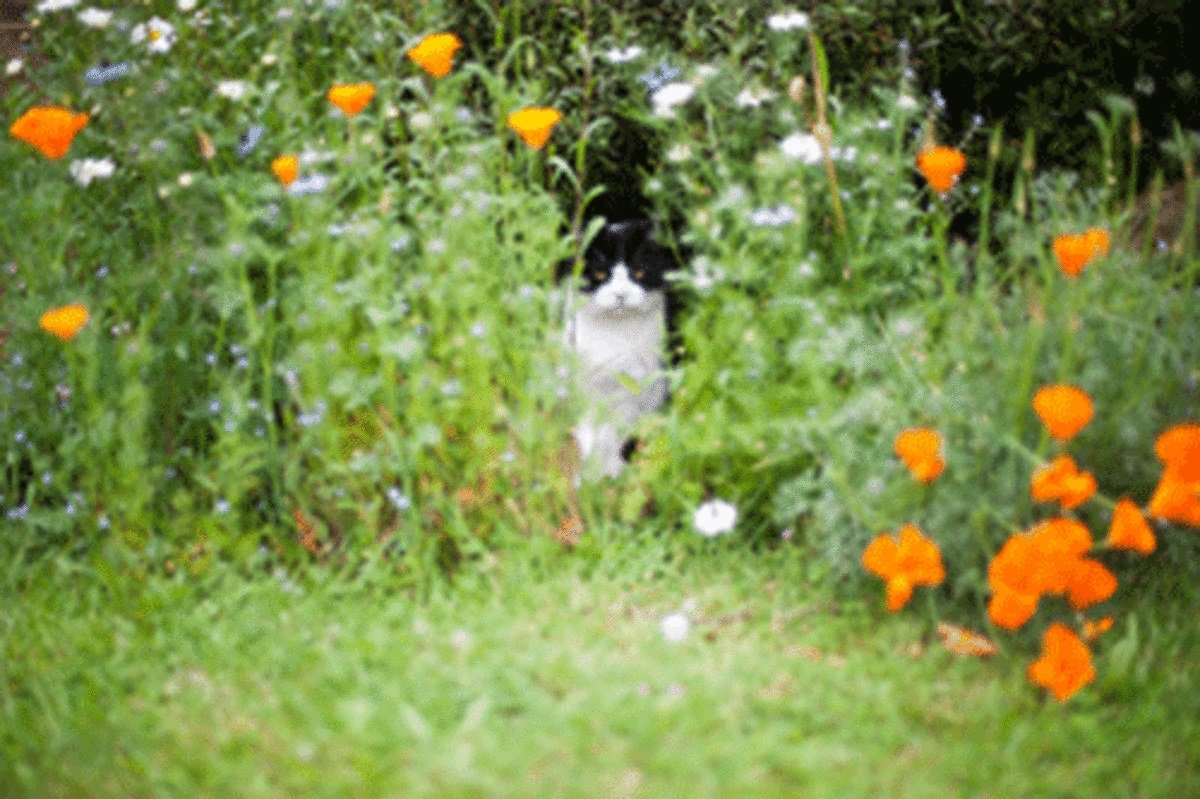cat: (548, 254, 690, 484)
